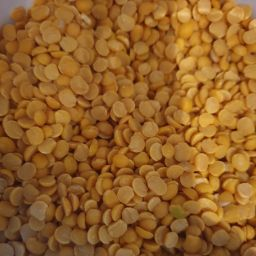Pigeon Pea(toor daal): (4, 4, 255, 256)
